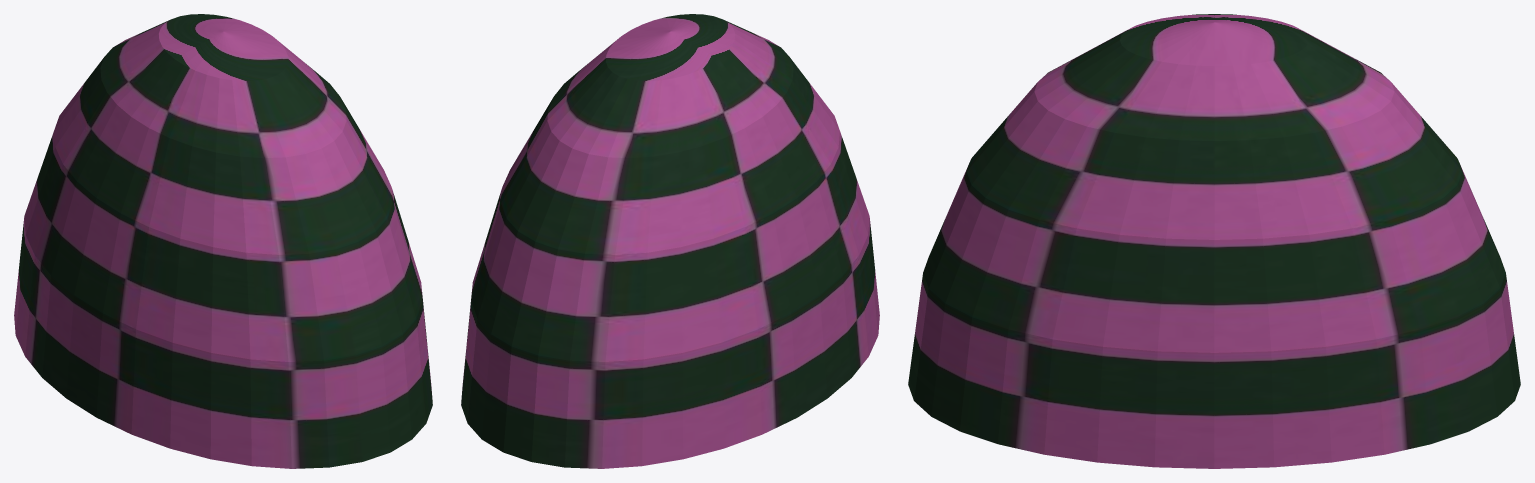
3 views of the same model, side by side, from view 1: azimuth 30°, elevation 25°; view 2: azimuth 150°, elevation 25°; view 3: azimuth 270°, elevation 25° (orthographic). The views are drawn at different scales.
Visible parts, largest first — view 1: geometry_0; view 2: geometry_0; view 3: geometry_0.
Part boxes in pixels (x1,y1,x2,y2): geometry_0: (14,14,432,468); geometry_0: (461,14,879,468); geometry_0: (908,14,1520,468).
Size of the model in its own units: 0.6647 by 0.6647 by 1.02.
Materials: 1 (1 with a texture image).
